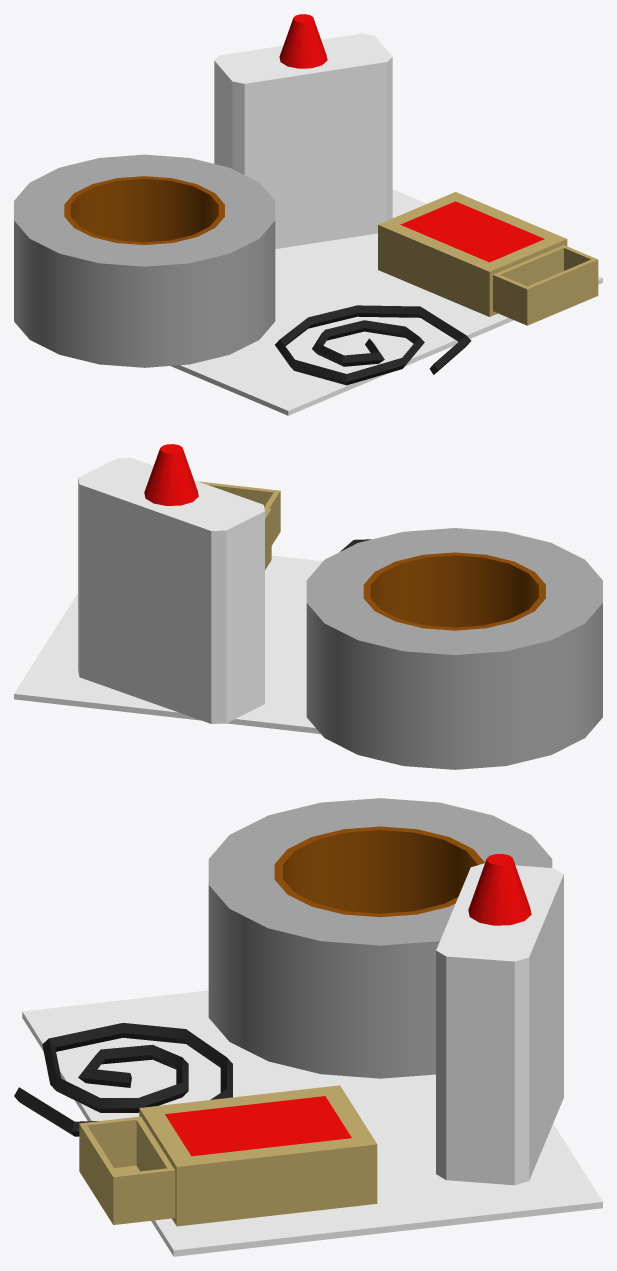
File: supplies.FBX
3 views of the same model, one above another, from view 1: azimuth 30°, elevation 25°; view 2: azimuth 150°, elevation 25°; view 3: azimuth 270°, elevation 25° (orthographic). The views are drawn at different scales.
Parts seen in each view (by area): view 1: Cylinder03, Box04, Box05, Box03, Line01; view 2: Cylinder03, Box04, Box05, Box03; view 3: Cylinder03, Box05, Box04, Box03, Line01.
Part boxes in pixels (x1=…): Cylinder03: x1=14, y1=154, x2=275, y2=367; Box04: x1=214, y1=14, x2=392, y2=248; Box05: x1=171, y1=189, x2=602, y2=415; Box03: x1=378, y1=192, x2=598, y2=325; Line01: x1=275, y1=305, x2=471, y2=385; Cylinder03: x1=306, y1=528, x2=602, y2=769; Box04: x1=78, y1=444, x2=264, y2=723; Box05: x1=14, y1=555, x2=322, y2=733; Box03: x1=198, y1=481, x2=280, y2=569; Cylinder03: x1=208, y1=798, x2=552, y2=1078; Box05: x1=22, y1=990, x2=602, y2=1256; Box04: x1=436, y1=854, x2=563, y2=1185; Box03: x1=79, y1=1085, x2=377, y2=1226; Line01: x1=14, y1=1023, x2=232, y2=1136.
Size of the model in its own units: 35.81 by 14.98 by 28.07.
